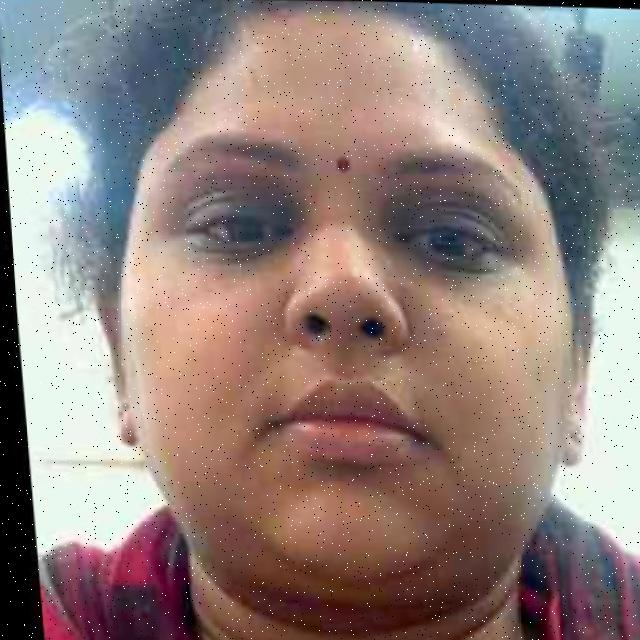puffy_eyes: (174, 183, 300, 232), (386, 240, 497, 287), (176, 230, 285, 271), (397, 201, 496, 241)
